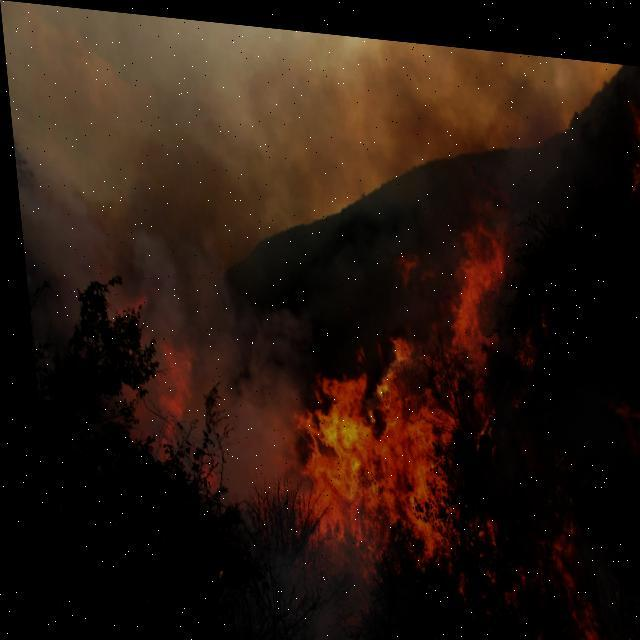Fire: (269, 153, 638, 639), (618, 386, 639, 509), (619, 82, 639, 183)
